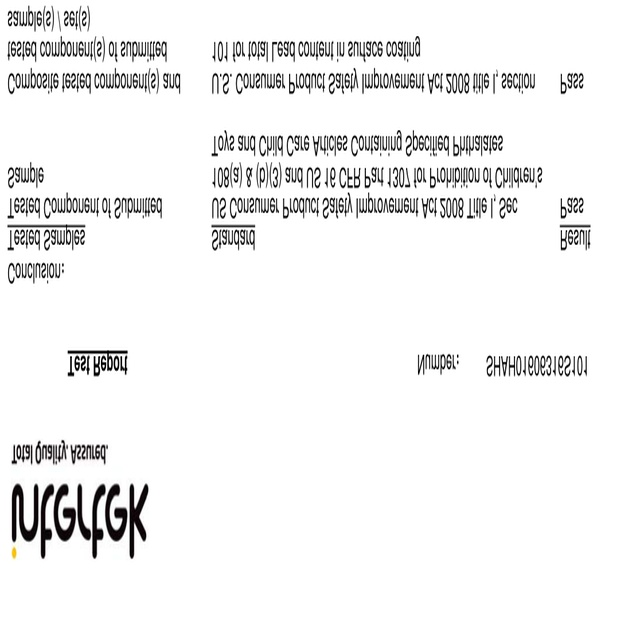intertek: (0, 474, 156, 563)
